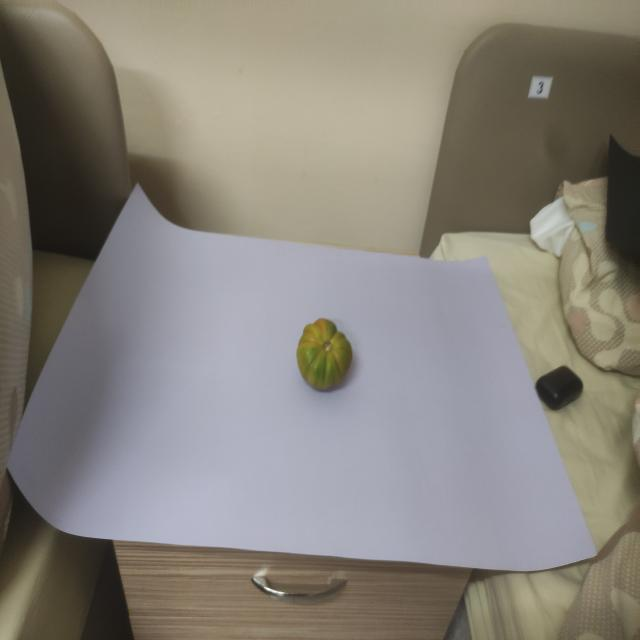yesil: (286, 308, 371, 396)
